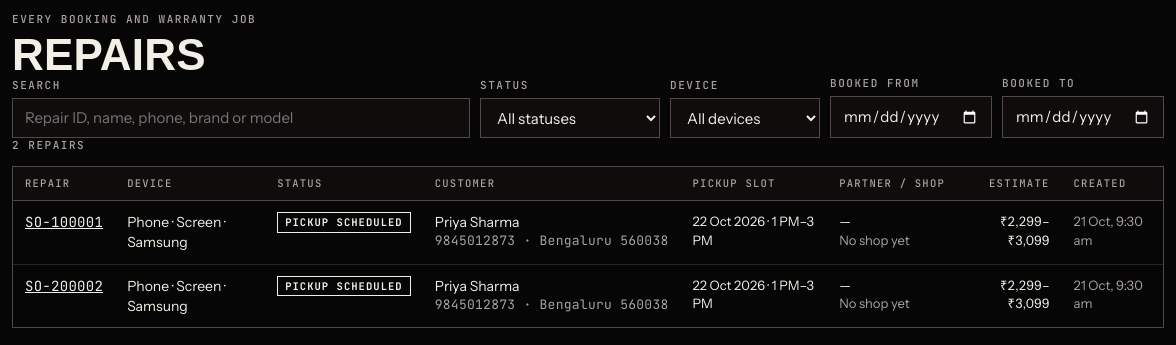
it: repair list filtering › sends the delayed view as its own flag and shows the delay
Expected: the link "SO-100001" is shown, [25, 213, 103, 231]
Select "Delayed" in the dropdown labelled "Status" at [570, 118], box [480, 98, 660, 138]
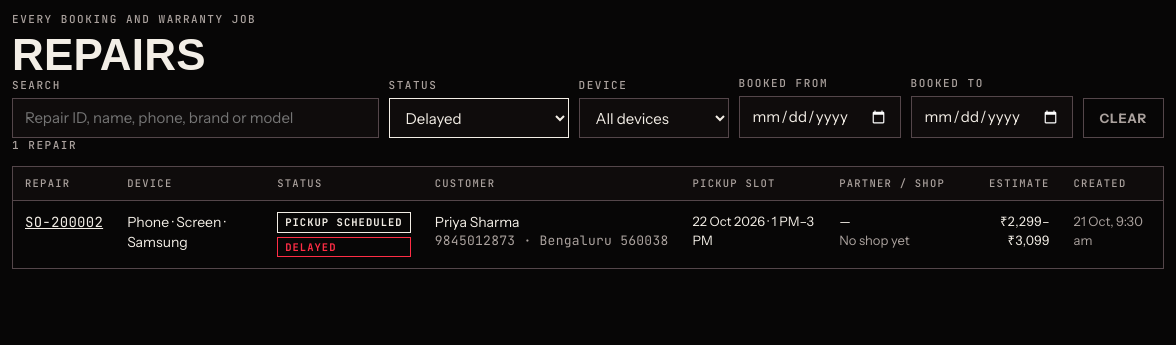
Now the text titled "Pickup window ended without a pickup" reads "Delayed", box [285, 240, 337, 254]
